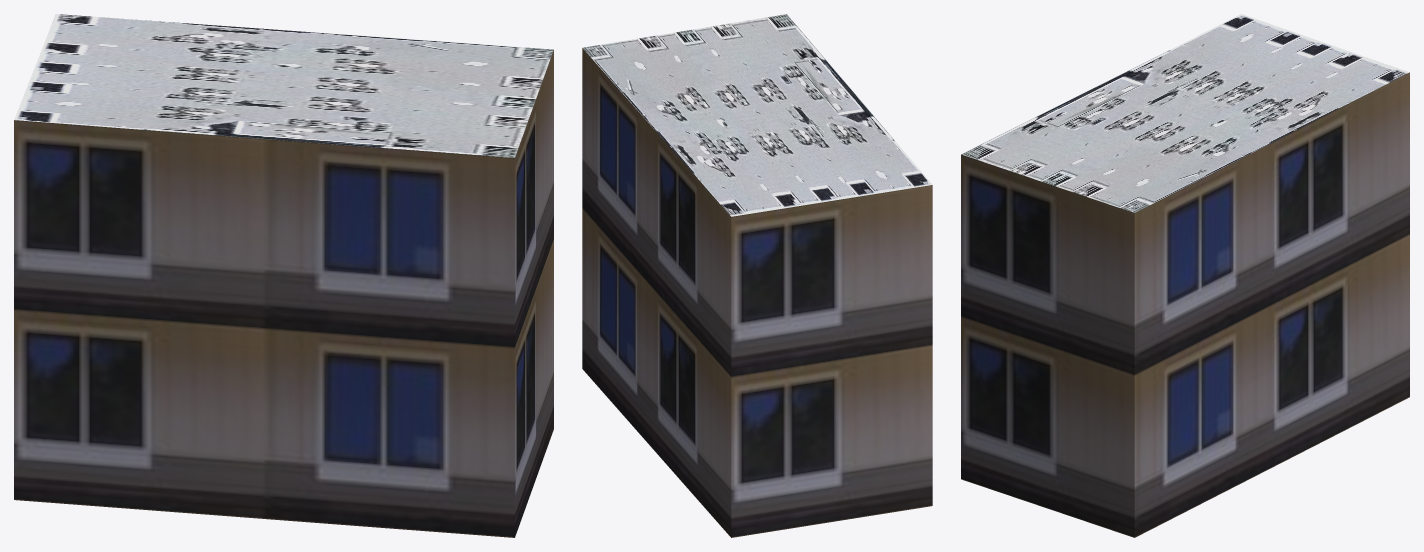
Rendered from ResTex__4686.fbx.
3 renders of one model, left to right at view 1: azimuth 30°, elevation 25°; view 2: azimuth 150°, elevation 25°; view 3: azimuth 270°, elevation 25°, orthographic. The views are drawn at different scales.
Parts seen in each view (by area): view 1: CityEngineMaterial_5_m, CityEngineMaterial_8_m; view 2: CityEngineMaterial_5_m, CityEngineMaterial_8_m; view 3: CityEngineMaterial_5_m, CityEngineMaterial_8_m.
Boxes of the visible parts, x1,y1,x2,y2 form: CityEngineMaterial_5_m: (14, 50, 553, 537); CityEngineMaterial_8_m: (14, 14, 553, 157); CityEngineMaterial_5_m: (582, 48, 932, 537); CityEngineMaterial_8_m: (582, 14, 932, 216); CityEngineMaterial_5_m: (961, 72, 1409, 537); CityEngineMaterial_8_m: (961, 14, 1409, 212).
Bounding box in the file's own units: 7.89 × 6 × 7.51.
2 materials, 2 textured.
